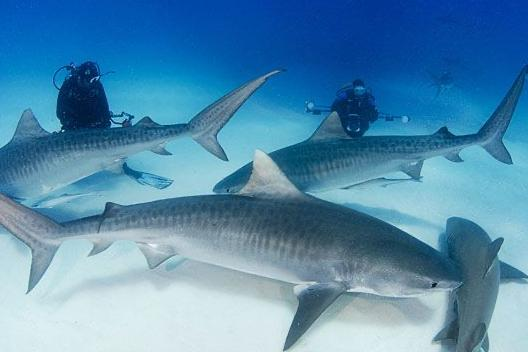Shark -Selachimorpha-: (0, 149, 467, 352), (0, 52, 282, 215), (212, 55, 528, 200), (430, 193, 528, 352)
